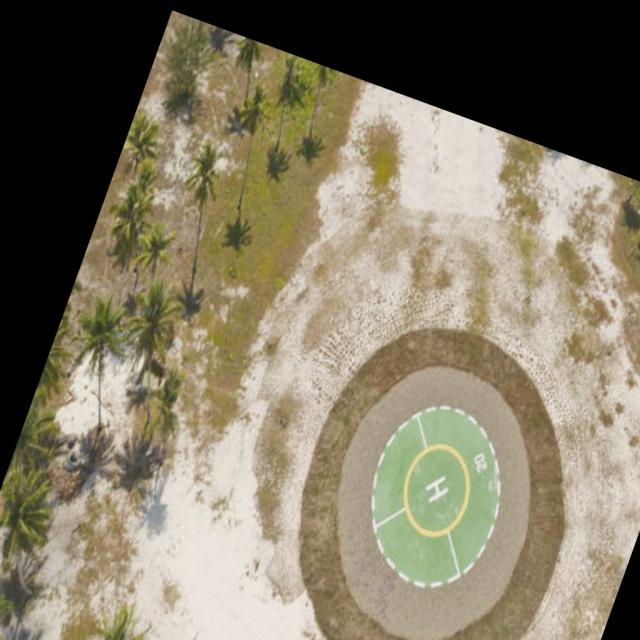helipad: (402, 442, 472, 539)
